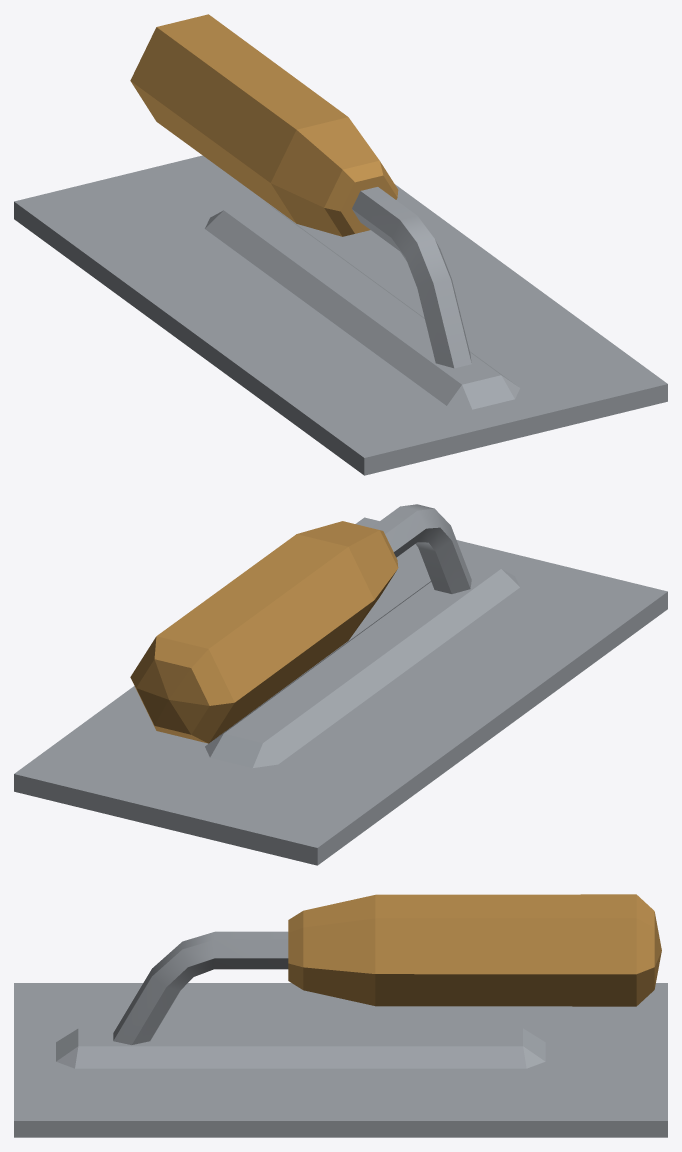
File: SM_Item_Trowel_01.glb
3 renders of one model, top to bottom at view 1: azimuth 30°, elevation 25°; view 2: azimuth 150°, elevation 25°; view 3: azimuth 270°, elevation 25°, orthographic. The views are drawn at different scales.
Visible parts, largest first — view 1: SM_Item_Trowel_01; view 2: SM_Item_Trowel_01; view 3: SM_Item_Trowel_01.
Boxes of the visible parts, x1=… form: SM_Item_Trowel_01: x1=14, y1=14, x2=667, y2=475; SM_Item_Trowel_01: x1=14, y1=504, x2=667, y2=865; SM_Item_Trowel_01: x1=14, y1=894, x2=667, y2=1137.
Bounding box in the file's own units: 0.15 × 0.0821 × 0.3.
Materials: 1 (1 with a texture image).
